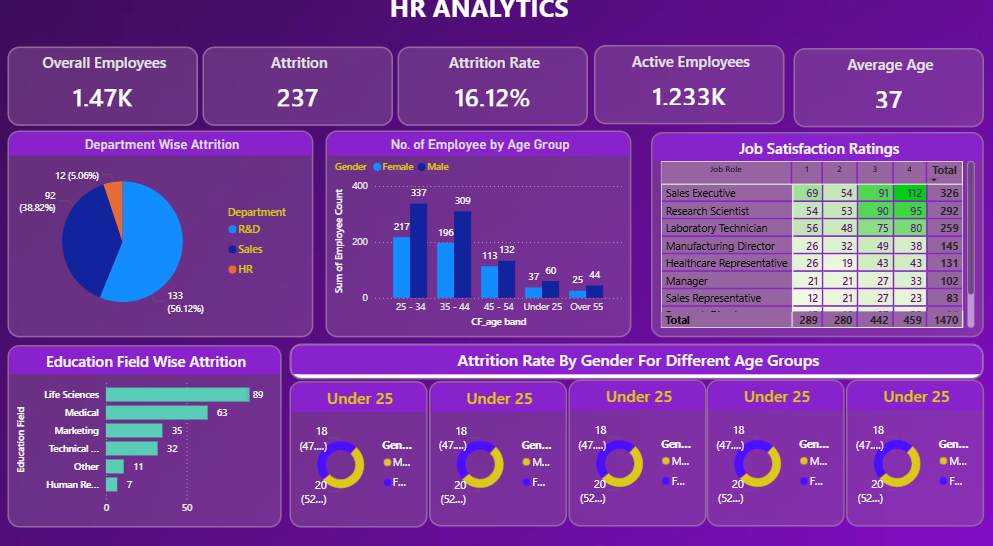

What the dashboard file says about the page in this screenshot:
{"tool":"powerbi","page":{"name":"Page 1","canvas":[1280,720],"ordinal":0},"visuals":[{"type":"cardVisual","title":"Overall Employees","fields":{"Data":["Sum(HR data.Employee Count)"]},"box":[32.1,77.5,240,100.2],"z":0},{"type":"cardVisual","title":"Attrition","fields":{"Data":["Sum(HR data.Attrition count)"]},"box":[277.8,77.5,240,100.2],"z":1000},{"type":"cardVisual","title":"Attrition Rate","fields":{"Data":["HR data.Attrition Rate"]},"box":[523.5,77.5,240,100.2],"z":2000},{"type":"cardVisual","title":"Active Employees","fields":{"Data":["HR data.Active Employees"]},"box":[771,75.6,240,100.2],"z":3000},{"type":"cardVisual","title":"Average Age","fields":{"Data":["Avg(HR data.Age)"]},"box":[1022.4,79.4,240,100.2],"z":4000},{"type":"pieChart","title":"Department Wise Attrition","fields":{"Category":["HR data.Department"],"Y":["Sum(HR data.Attrition count)"]},"box":[32.1,183.3,385.5,260.8],"z":5000},{"type":"clusteredColumnChart","title":"No. of Employee by Age Group","fields":{"Category":["HR data.CF_age band"],"Y":["Sum(HR data.Employee Count)"],"Series":["HR data.Gender"]},"box":[432.8,183.3,385.5,260.8],"z":6000},{"type":"pivotTable","title":"Job Satisfaction Ratings","fields":{"Rows":["HR data.Job Role"],"Columns":["HR data.Job Satisfaction"],"Values":["Sum(HR data.Employee Count)"]},"box":[842.8,185.2,419.5,258.9],"z":7000},{"type":"clusteredBarChart","title":"Education Field Wise Attrition","fields":{"Category":["HR data.Education Field"],"Y":["Sum(HR data.Attrition count)"]},"box":[32,454,345,230],"z":8000},{"type":"donutChart","title":"Under 25","fields":{"Category":["HR data.Gender"],"Y":["Sum(HR data.Attrition count)"],"Series":["HR data.CF_age band"]},"box":[386.5,499.5,174,184.5],"z":9000},{"type":"textbox","title":"Attrition Rate By Gender For Different Age Groups","box":[387.4,451.7,875,45.4],"z":10000},{"type":"donutChart","title":"Under 25","fields":{"Category":["HR data.Gender"],"Y":["Sum(HR data.Attrition count)"],"Series":["HR data.CF_age band"]},"box":[563.2,498.9,173.9,183.3],"z":11000},{"type":"donutChart","title":"Under 25","fields":{"Category":["HR data.Gender"],"Y":["Sum(HR data.Attrition count)"],"Series":["HR data.CF_age band"]},"box":[738.9,497,173.9,185.2],"z":12000},{"type":"donutChart","title":"Under 25","fields":{"Category":["HR data.Gender"],"Y":["Sum(HR data.Attrition count)"],"Series":["HR data.CF_age band"]},"box":[912.8,497,173.9,185.2],"z":13000},{"type":"donutChart","title":"Under 25","fields":{"Category":["HR data.Gender"],"Y":["Sum(HR data.Attrition count)"],"Series":["HR data.CF_age band"]},"box":[1088.5,497,173.9,185.2],"z":14000},{"type":"textbox","box":[476.2,0,300.5,62.4],"z":15000}]}

Visuals, with their boxes in screenshot pixels (x1, y1, x2, y2), scaled from the page's 1280x720 canvas onto the 993x546 screenshot:
"Overall Employees" cardVisual: [left=25, top=59, right=211, bottom=135]
"Attrition" cardVisual: [left=216, top=59, right=402, bottom=135]
"Attrition Rate" cardVisual: [left=406, top=59, right=592, bottom=135]
"Active Employees" cardVisual: [left=598, top=57, right=784, bottom=133]
"Average Age" cardVisual: [left=793, top=60, right=979, bottom=136]
"Department Wise Attrition" pieChart: [left=25, top=139, right=324, bottom=337]
"No. of Employee by Age Group" clusteredColumnChart: [left=336, top=139, right=635, bottom=337]
"Job Satisfaction Ratings" pivotTable: [left=654, top=140, right=979, bottom=337]
"Education Field Wise Attrition" clusteredBarChart: [left=25, top=344, right=292, bottom=519]
"Under 25" donutChart: [left=300, top=379, right=435, bottom=519]
"Attrition Rate By Gender For Different Age Groups" textbox: [left=301, top=343, right=979, bottom=377]
"Under 25" donutChart: [left=437, top=378, right=572, bottom=517]
"Under 25" donutChart: [left=573, top=377, right=708, bottom=517]
"Under 25" donutChart: [left=708, top=377, right=843, bottom=517]
"Under 25" donutChart: [left=844, top=377, right=979, bottom=517]
textbox: [left=369, top=0, right=603, bottom=47]
